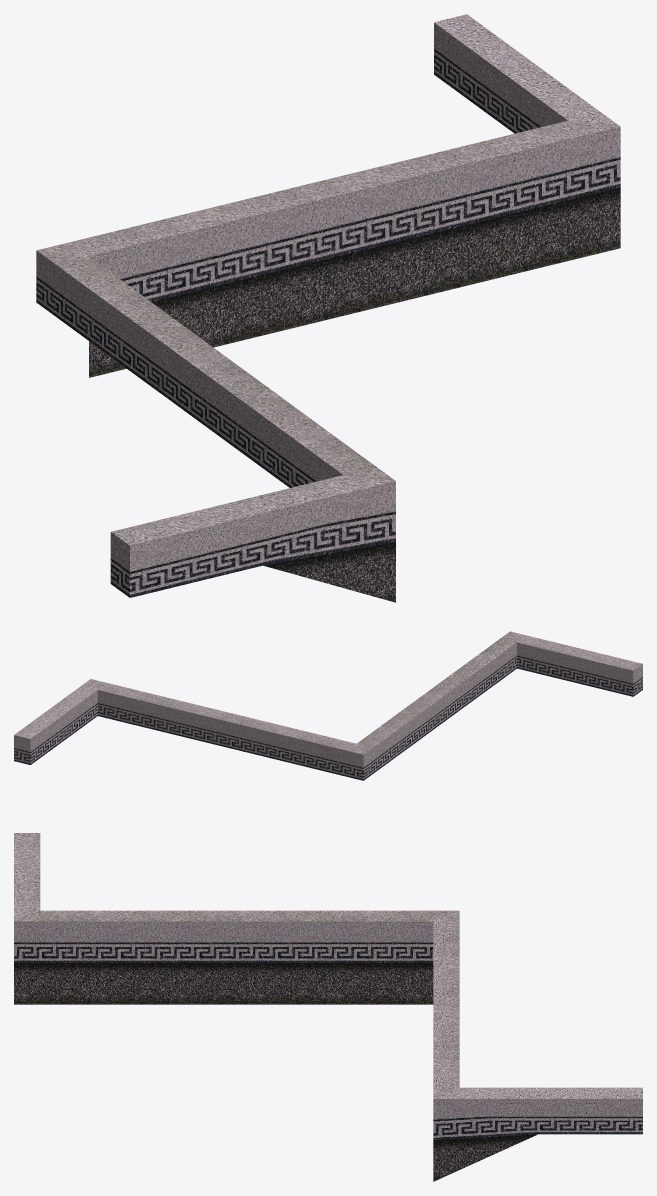
Rendered from M7_Zone4_TCWall2.glb.
3 views of the same model, one above another, from view 1: azimuth 30°, elevation 25°; view 2: azimuth 150°, elevation 25°; view 3: azimuth 270°, elevation 25° (orthographic). The views are drawn at different scales.
Visible parts, largest first — view 1: M7_ZONE4_TCWALL2; view 2: M7_ZONE4_TCWALL2; view 3: M7_ZONE4_TCWALL2.
Boxes of the visible parts, <box> form: M7_ZONE4_TCWALL2: <box>36,14,620,602</box>; M7_ZONE4_TCWALL2: <box>14,631,642,780</box>; M7_ZONE4_TCWALL2: <box>14,833,642,1181</box>.
Bounding box in the file's own units: 12 × 1.75 × 12.
Materials: 2 (2 with a texture image).
